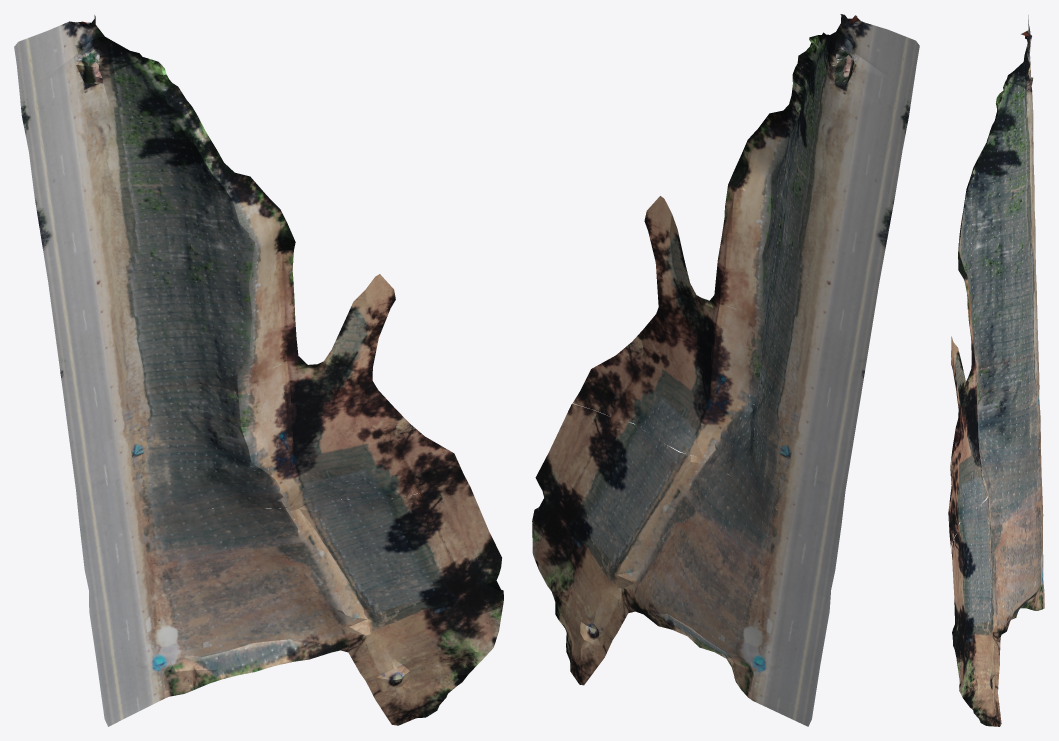
Rendered from superficie_t16.glb.
3 renders of one model, left to right at view 1: azimuth 30°, elevation 25°; view 2: azimuth 150°, elevation 25°; view 3: azimuth 270°, elevation 25°, orthographic. The views are drawn at different scales.
Parts seen in each view (by area): view 1: Bloco 1; view 2: Bloco 1; view 3: Bloco 1.
Boxes of the visible parts, x1=… form: Bloco 1: x1=14, y1=15, x2=503, y2=726; Bloco 1: x1=532, y1=14, x2=919, y2=726; Bloco 1: x1=948, y1=15, x2=1044, y2=726.
Size of the model in its own units: 92.39 by 153 by 22.83.
Materials: 1 (1 with a texture image).
